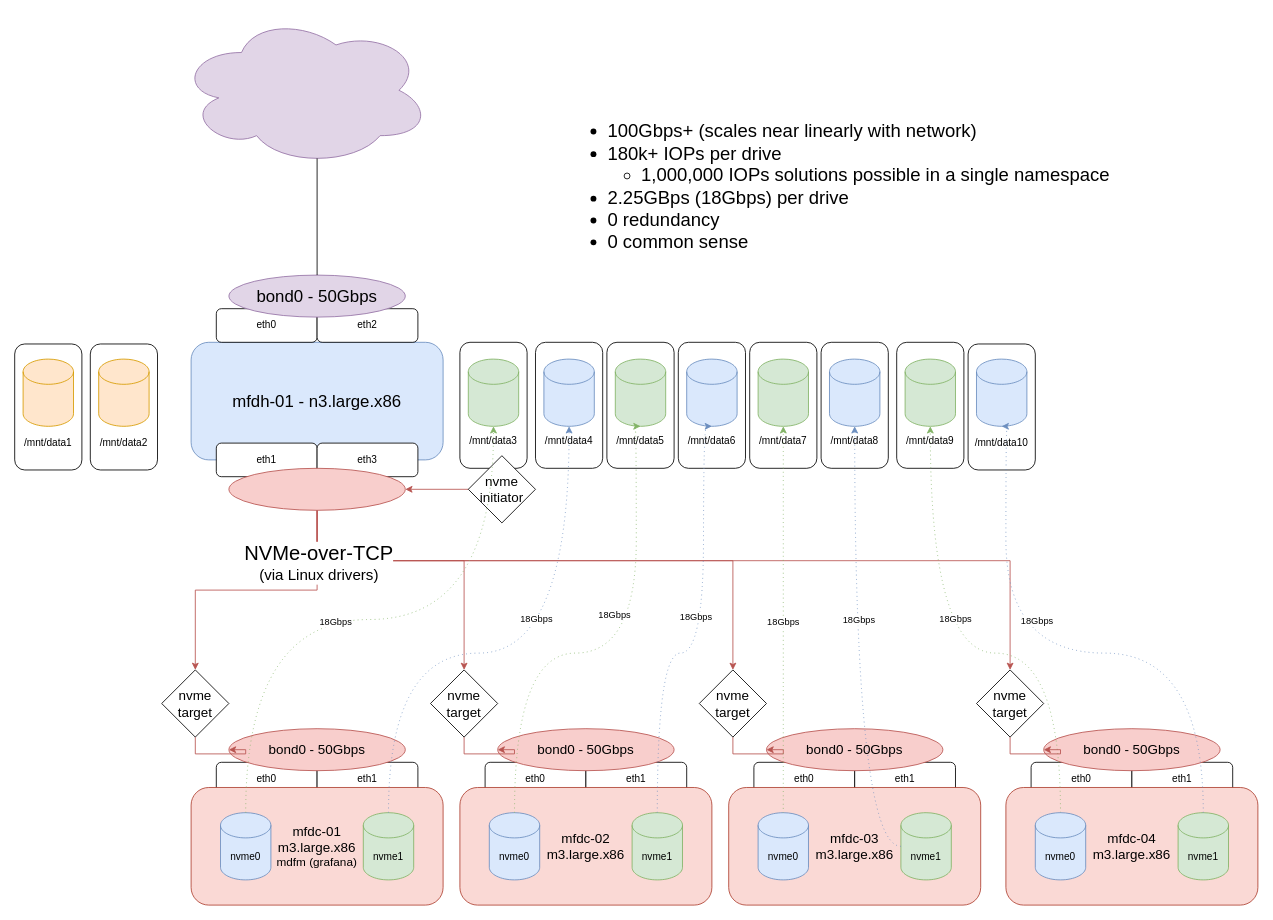
Some shapes in this 1273 by 920 pixel diagram are drawn without their labels. The centre of each missing label's shape, as x and y in pixels:
"bond1 - 50Gbps" goes at (316,488).
"Internet" goes at (304,90).
"nvme0 (local)" goes at (48,392).
"nvme1 (local)" goes at (123,392).
"nvme2 (tcp)" goes at (493,392).
"nvme3 (tcp)" goes at (568,392).
"nvme4 (tcp)" goes at (640,392).
"nvme5 (tcp)" goes at (711,392).
"nvme6 (tcp)" goes at (782,392).
"nvme7 (tcp)" goes at (854,392).
"nvme8 (tcp)" goes at (930,392).
"nvme9 (tcp)" goes at (1001,392).
